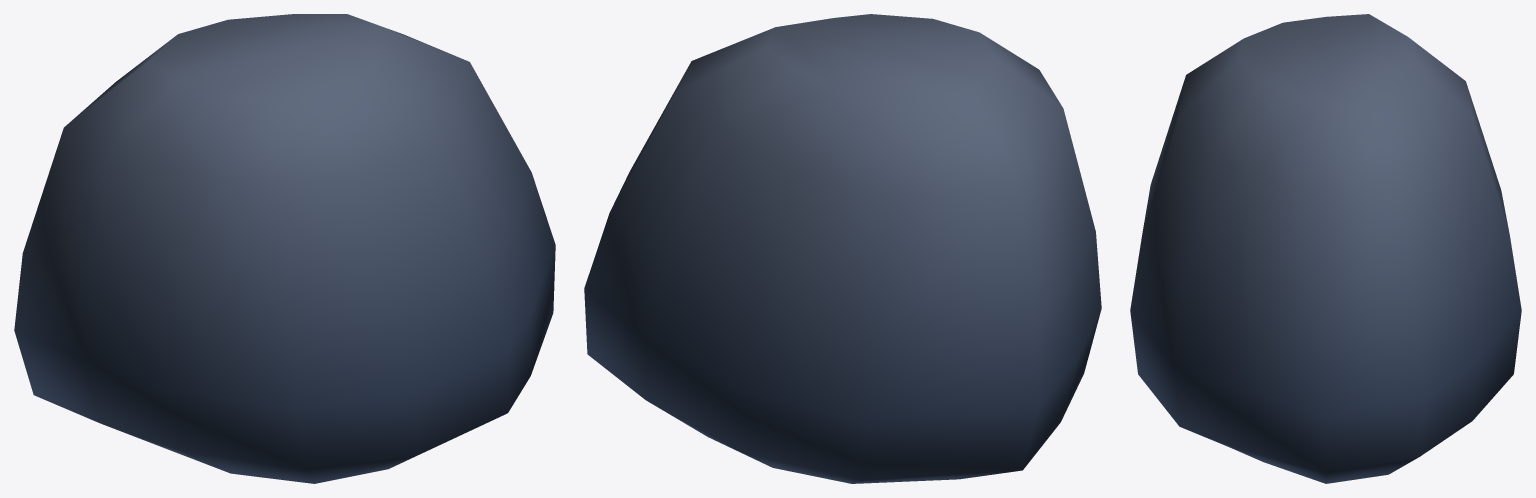
Rendered from Rock.glb.
The picture shows the model from 3 angles, left to right: view 1: azimuth 30°, elevation 25°; view 2: azimuth 150°, elevation 25°; view 3: azimuth 270°, elevation 25°; orthographic projection. The views are drawn at different scales.
Visible parts, largest first — view 1: lamplighter__Rock__rock; view 2: lamplighter__Rock__rock; view 3: lamplighter__Rock__rock.
Part boxes in pixels (x1,y1,x2,y2): lamplighter__Rock__rock: (14, 14, 555, 483); lamplighter__Rock__rock: (584, 14, 1101, 483); lamplighter__Rock__rock: (1130, 14, 1521, 483).
Size of the model in its own units: 0.3506 by 0.2571 by 0.272.
